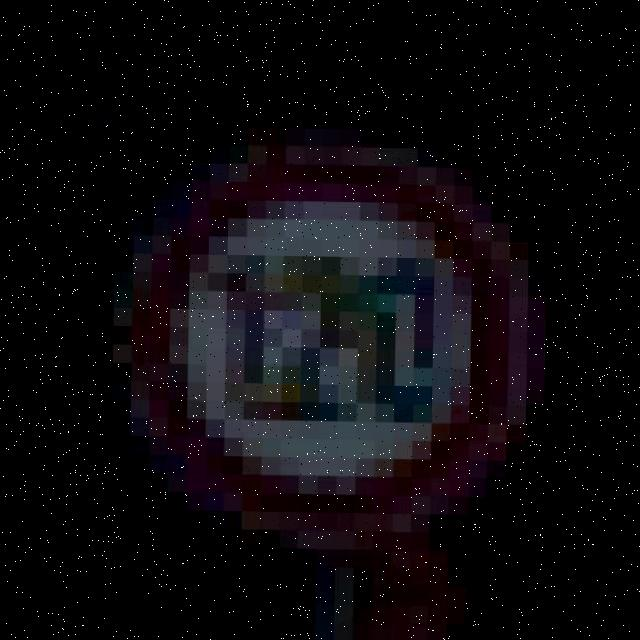Ograniczenie predkosci do 120: (128, 154, 520, 532)
